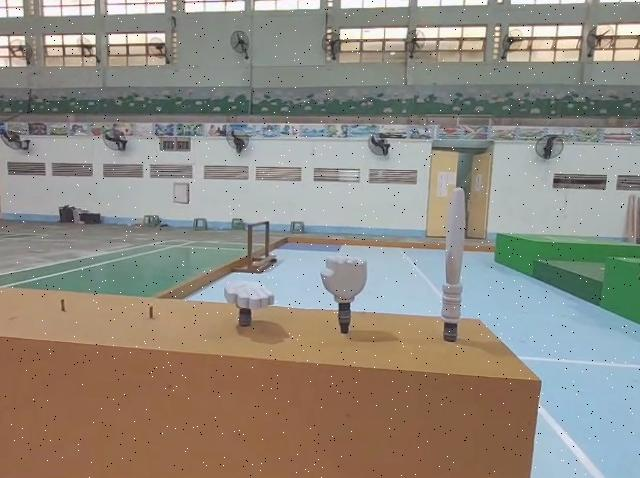Fist: (321, 244, 372, 337)
Hand: (223, 267, 277, 330)
Sph: (439, 187, 466, 350)
